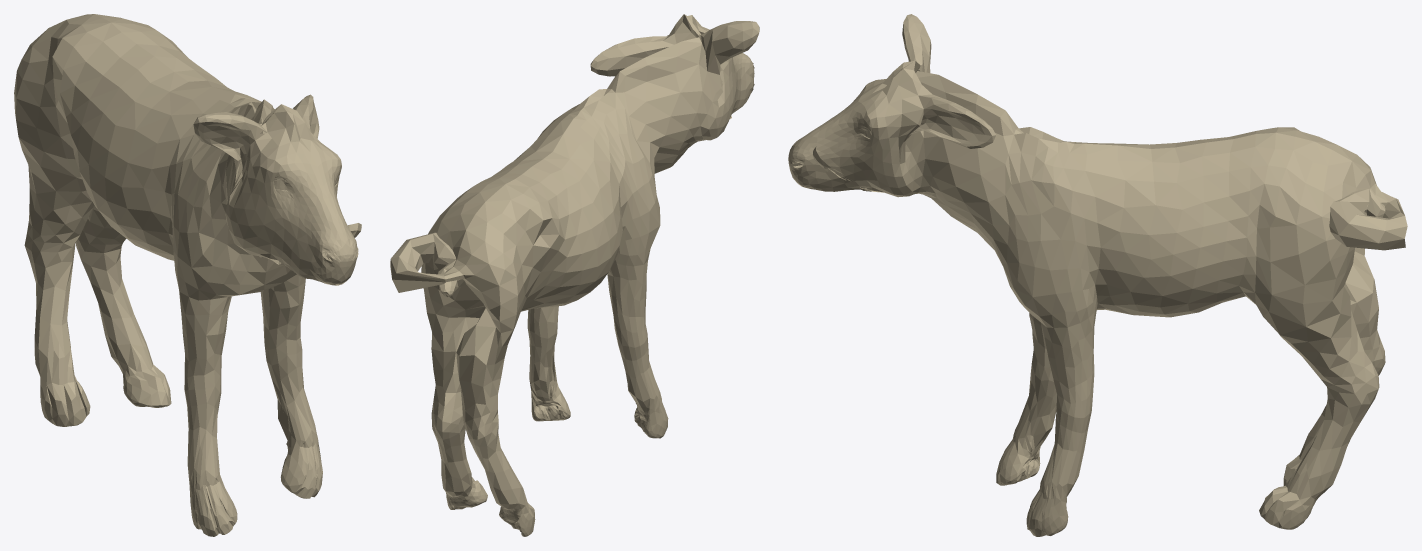
3 views of the same model, side by side, from view 1: azimuth 30°, elevation 25°; view 2: azimuth 150°, elevation 25°; view 3: azimuth 270°, elevation 25° (orthographic). The views are drawn at different scales.
Parts seen in each view (by area): view 1: world; view 2: world; view 3: world.
Boxes of the visible parts, <box> form: world: <box>14,14,361,536</box>; world: <box>390,14,759,536</box>; world: <box>788,14,1407,536</box>.
Bounding box in the file's own units: 0.6087 × 1.39 × 1.76.
